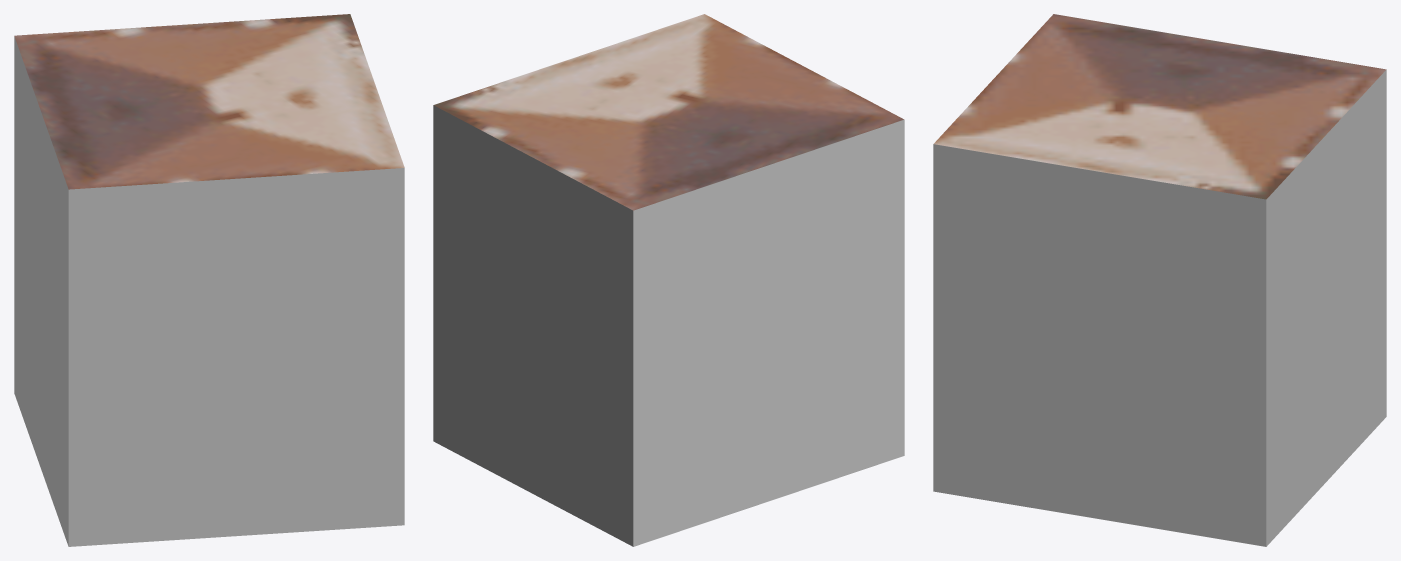
The model's file is DEBW_0010007TxeH.gltf.
3 views of the same model, side by side, from view 1: azimuth 30°, elevation 25°; view 2: azimuth 150°, elevation 25°; view 3: azimuth 270°, elevation 25° (orthographic). The views are drawn at different scales.
Parts seen in each view (by area): view 1: Z_UP; view 2: Z_UP; view 3: Z_UP.
Part boxes in pixels (<box>): Z_UP: <box>14,14,404,546</box>; Z_UP: <box>433,14,904,546</box>; Z_UP: <box>933,14,1386,546</box>.
Size of the model in its own units: 13.99 by 12.21 by 14.44.
2 materials, 1 textured.
